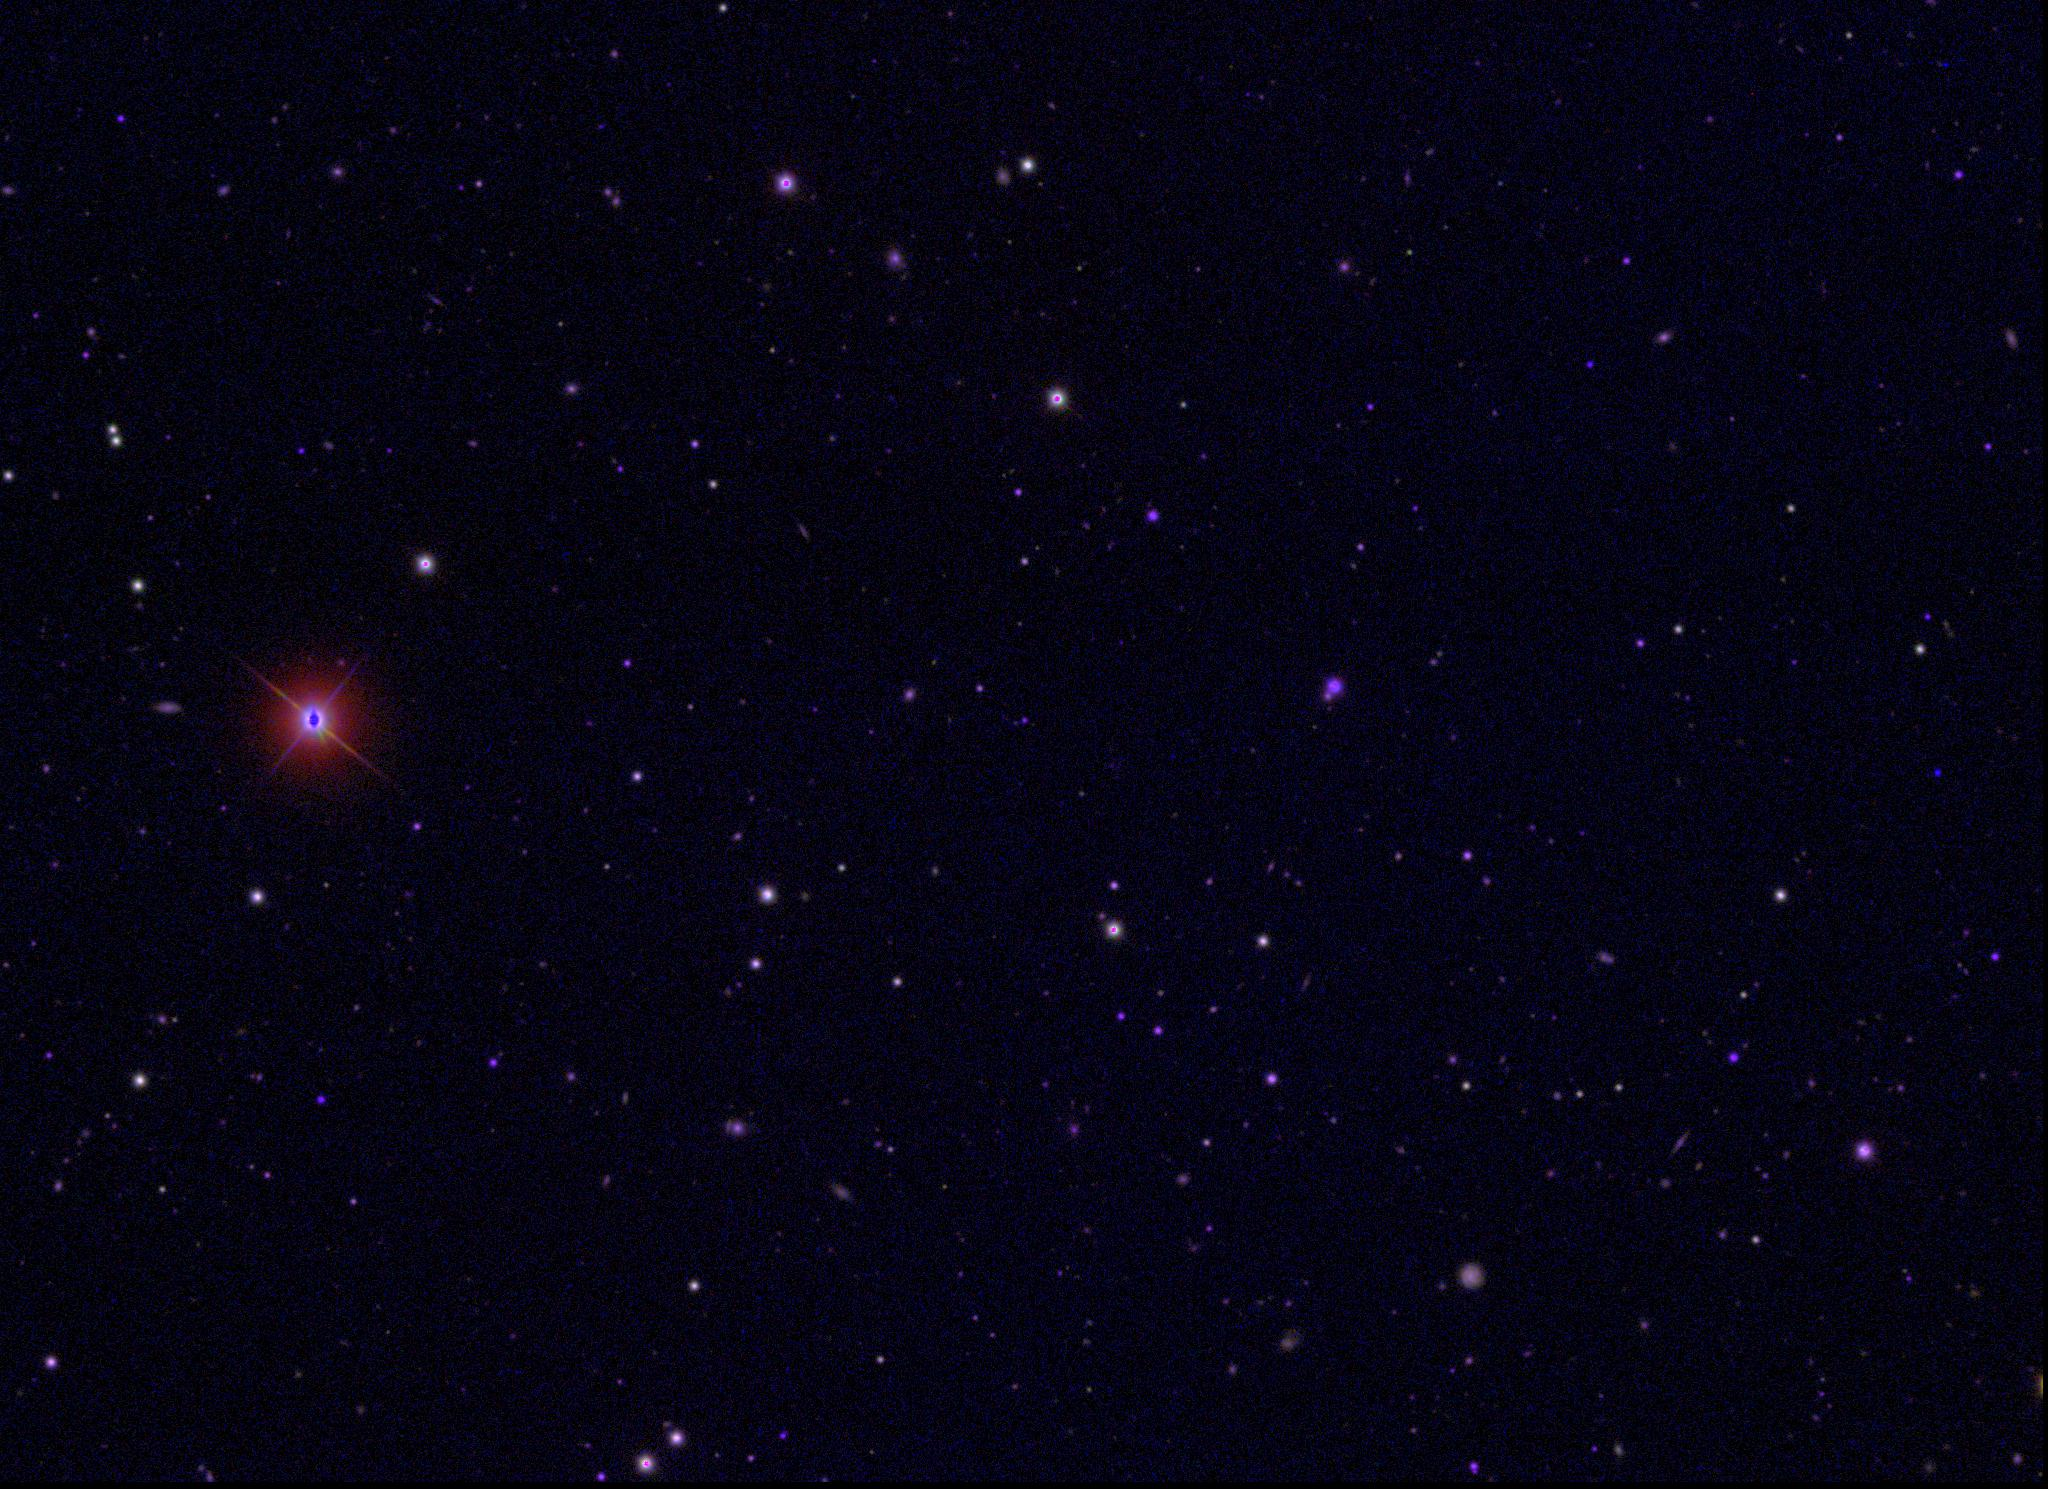L: (1930, 764, 1945, 778)
